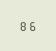eight: (19, 19, 26, 30)
six: (27, 19, 34, 31)
